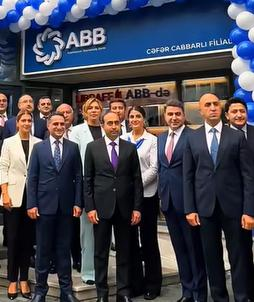ABB: (31, 28, 65, 67)
